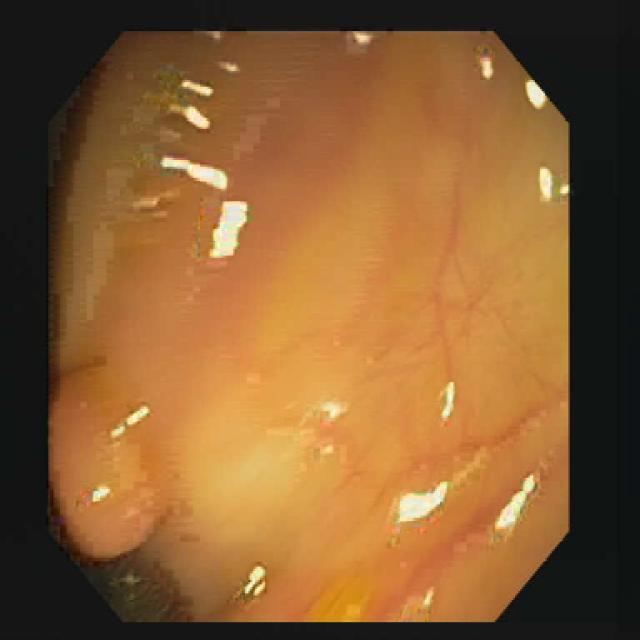tumor: (48, 367, 168, 582)
